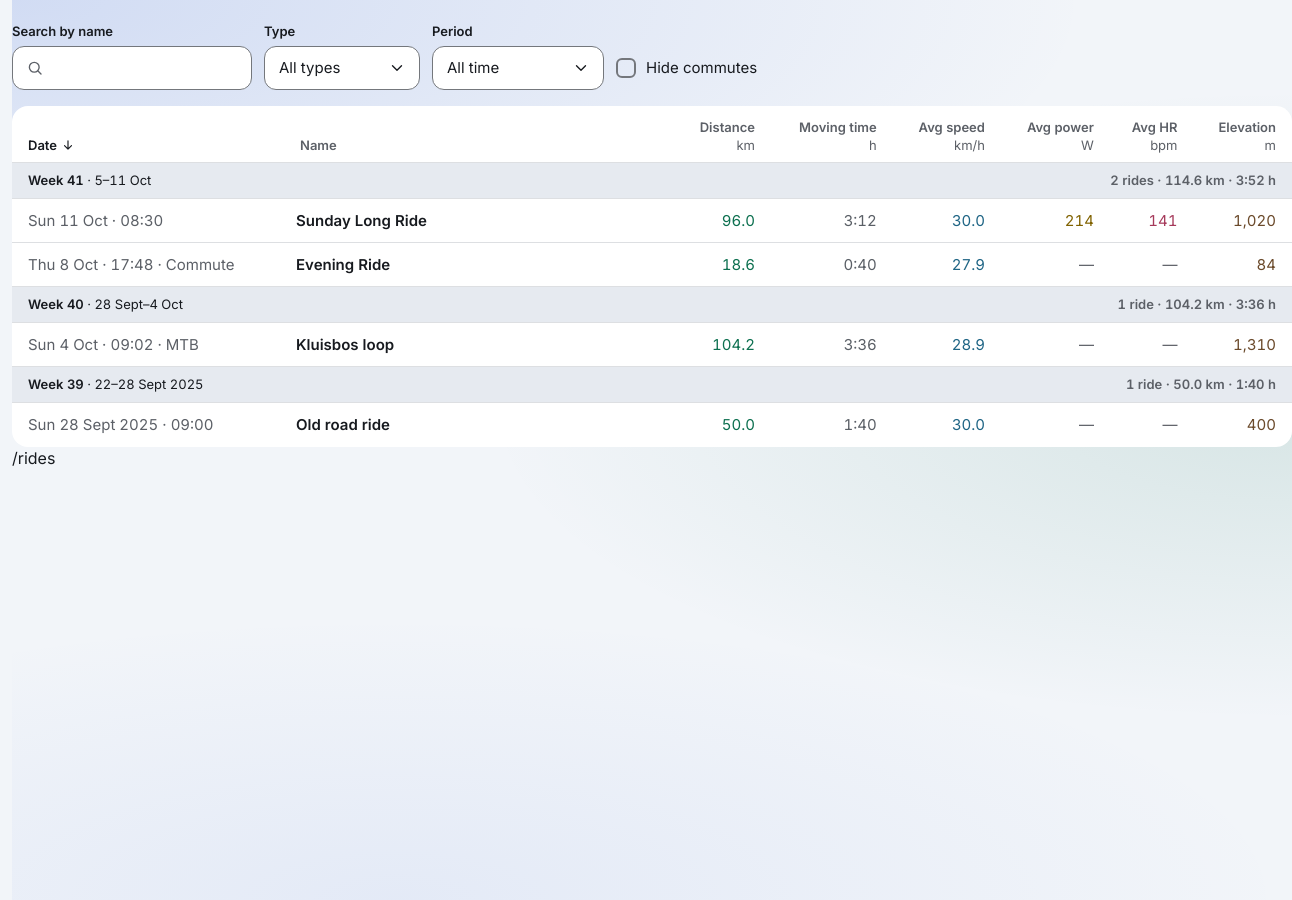
Scenario: RidesPage on desktop › sorts by any column both ways in a flat list with a count line
Expected: the table is shown, x1=12 y1=106 x2=1291 y2=446
Click the button "Distance km" at point(719, 136), box x1=676 y1=114 x2=763 y2=158
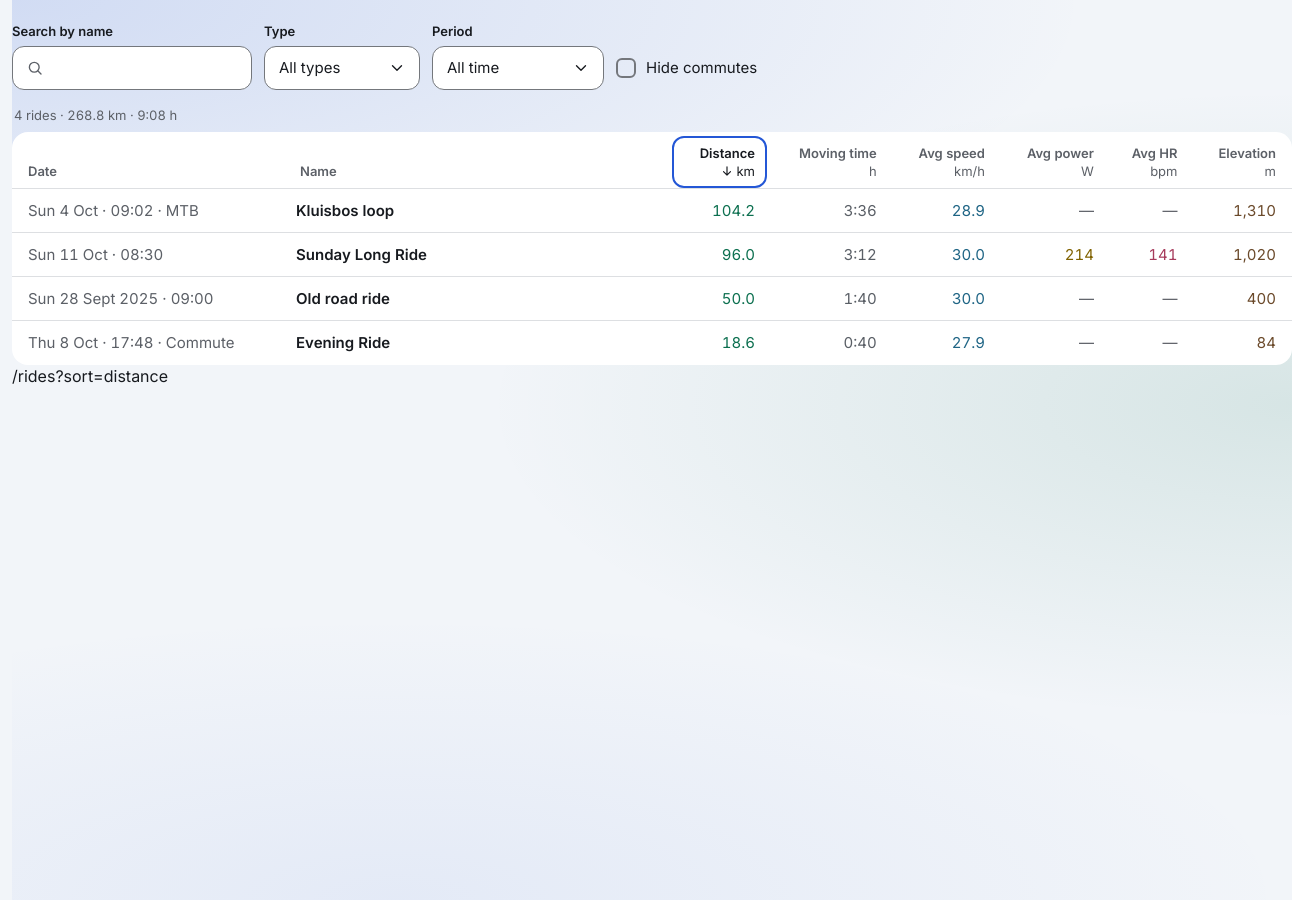
Expected: the text "Week 41" is gone
Expected: the text "4 rides · 268.8 km · 9:08 h" is shown, x1=14 y1=107 x2=177 y2=123
Expected: the text with test id "where" reads "/rides?sort=distance", x1=12 y1=366 x2=168 y2=386
Click the button "Distance km" at point(719, 162), box x1=676 y1=140 x2=763 y2=184
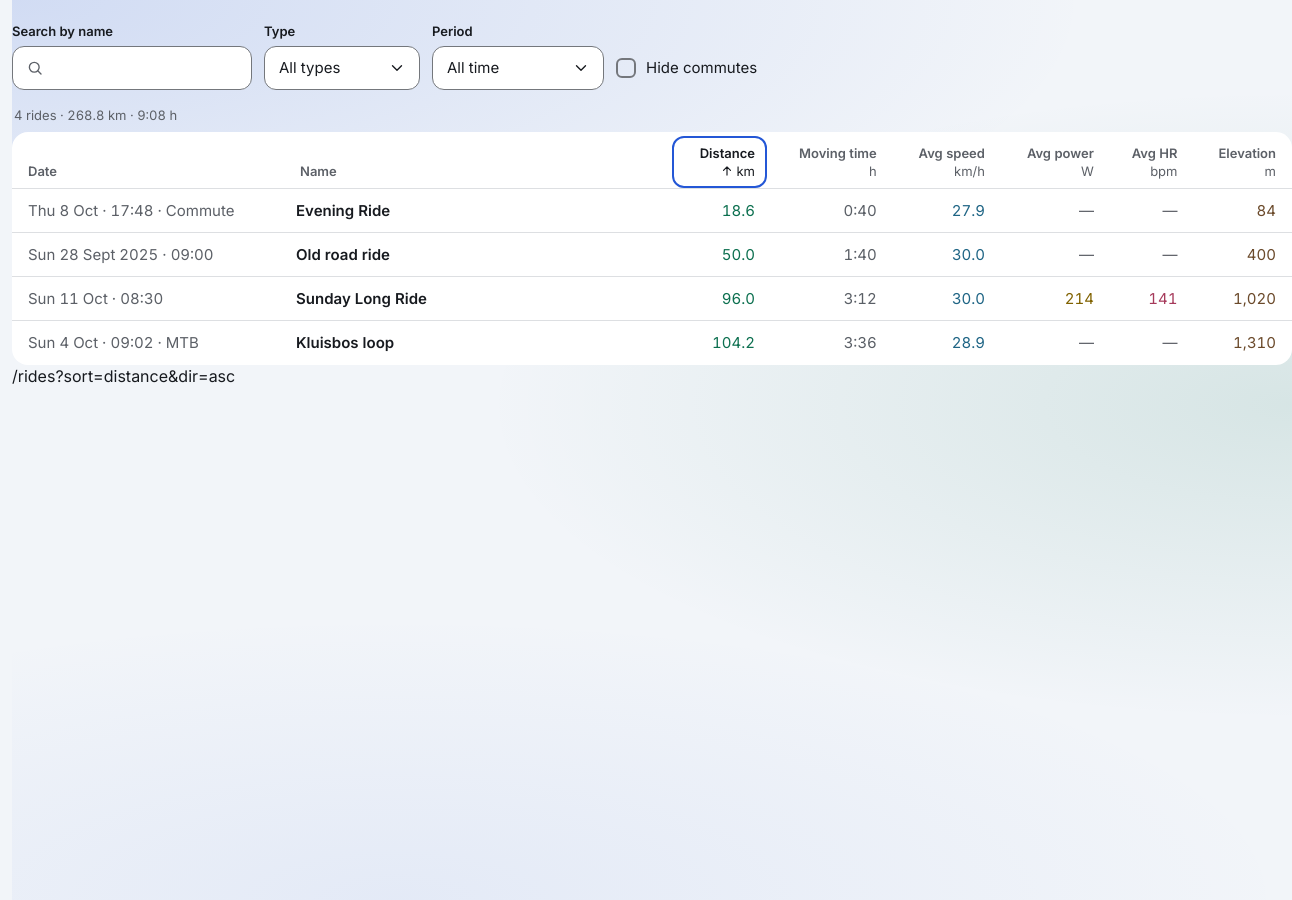
Expected: the text with test id "where" reads "/rides?sort=distance&dir=asc", x1=12 y1=366 x2=235 y2=386
Click the button "Name" at point(318, 171), box x1=292 y1=140 x2=668 y2=184
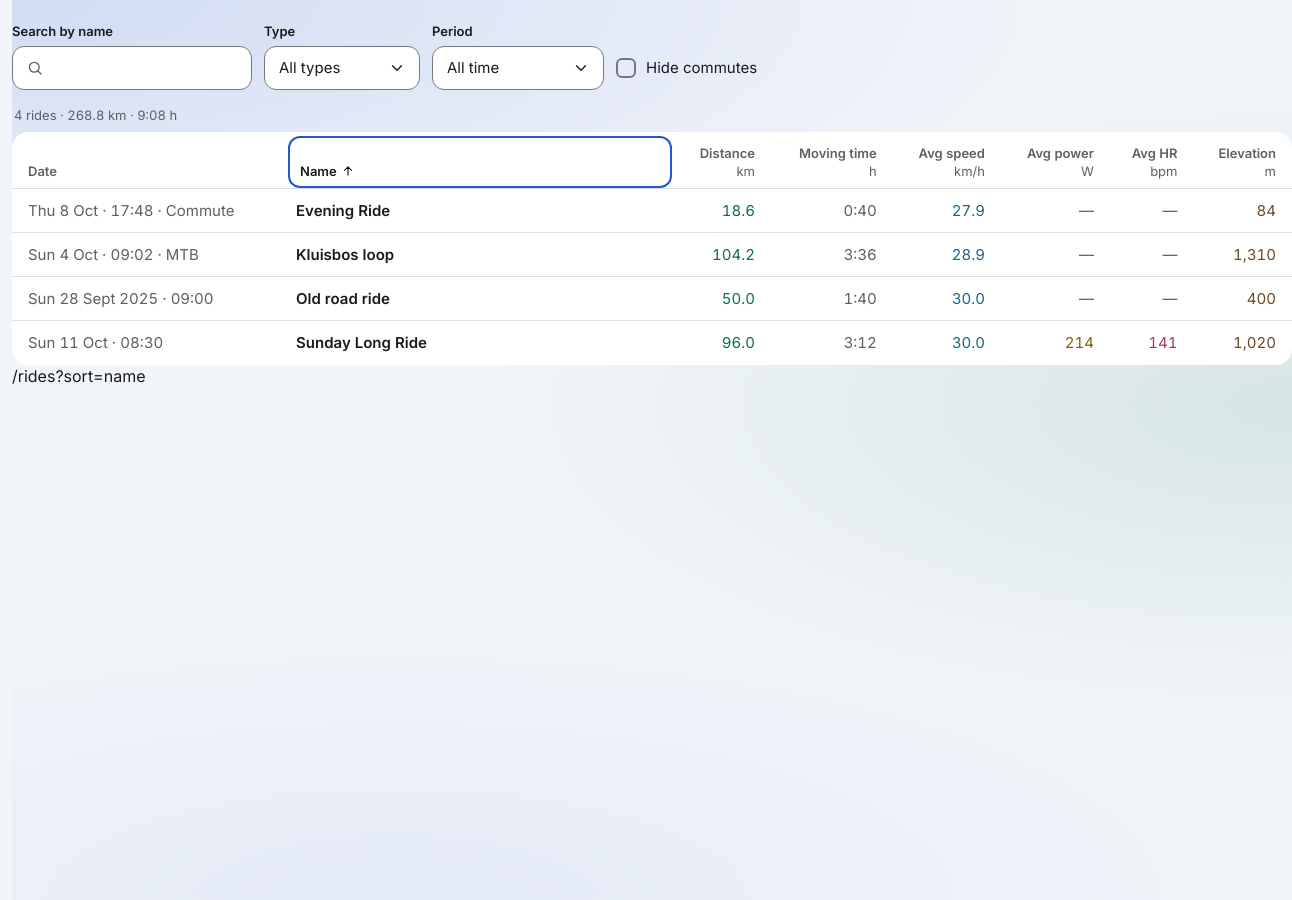
Click the button "Avg power W" at point(1051, 162), box x1=1001 y1=140 x2=1102 y2=184
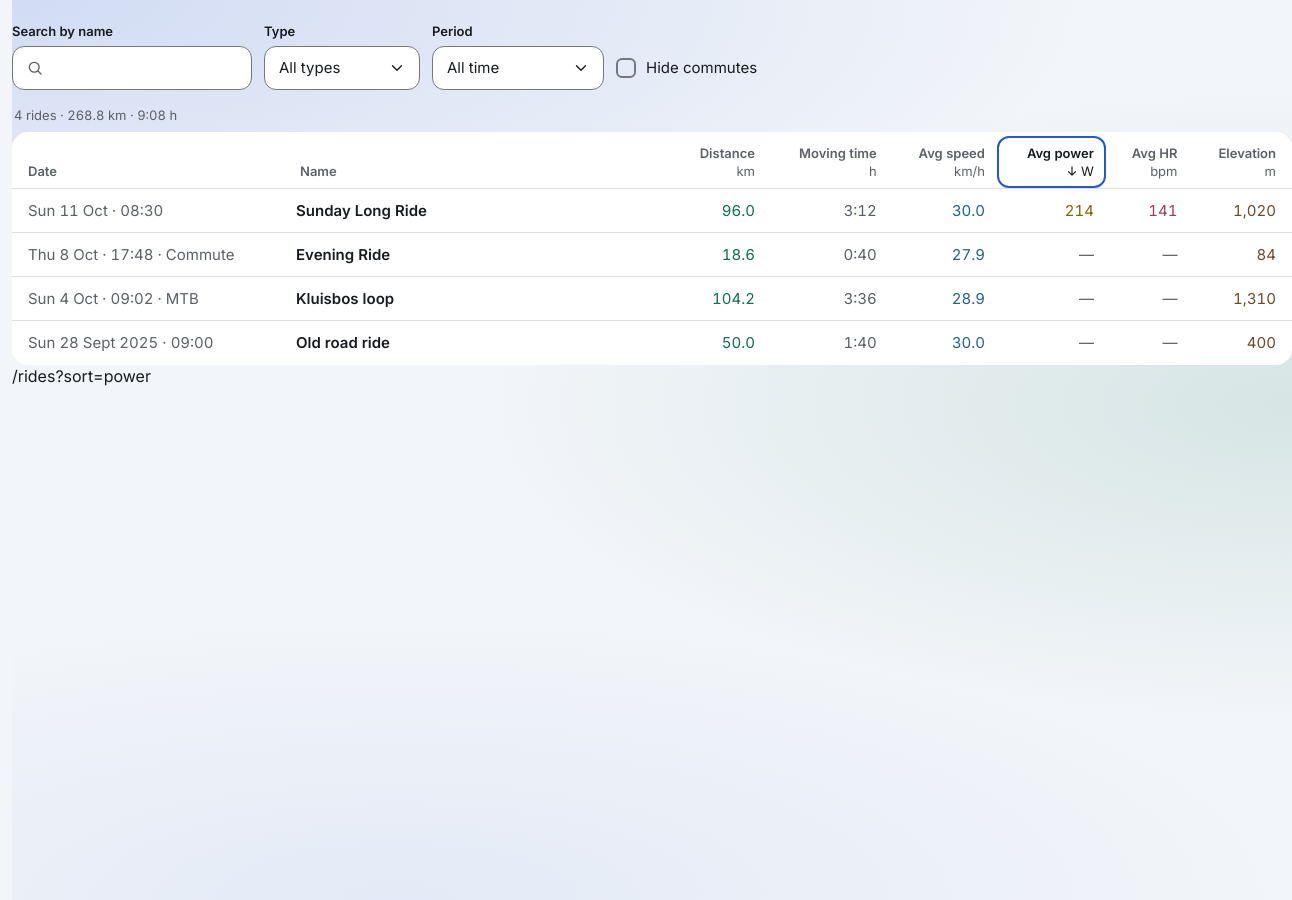
Expected: the link "Sunday Long Ride" is shown, x1=296 y1=201 x2=427 y2=220
Click the button "Date" at point(43, 171), box x1=20 y1=140 x2=284 y2=184
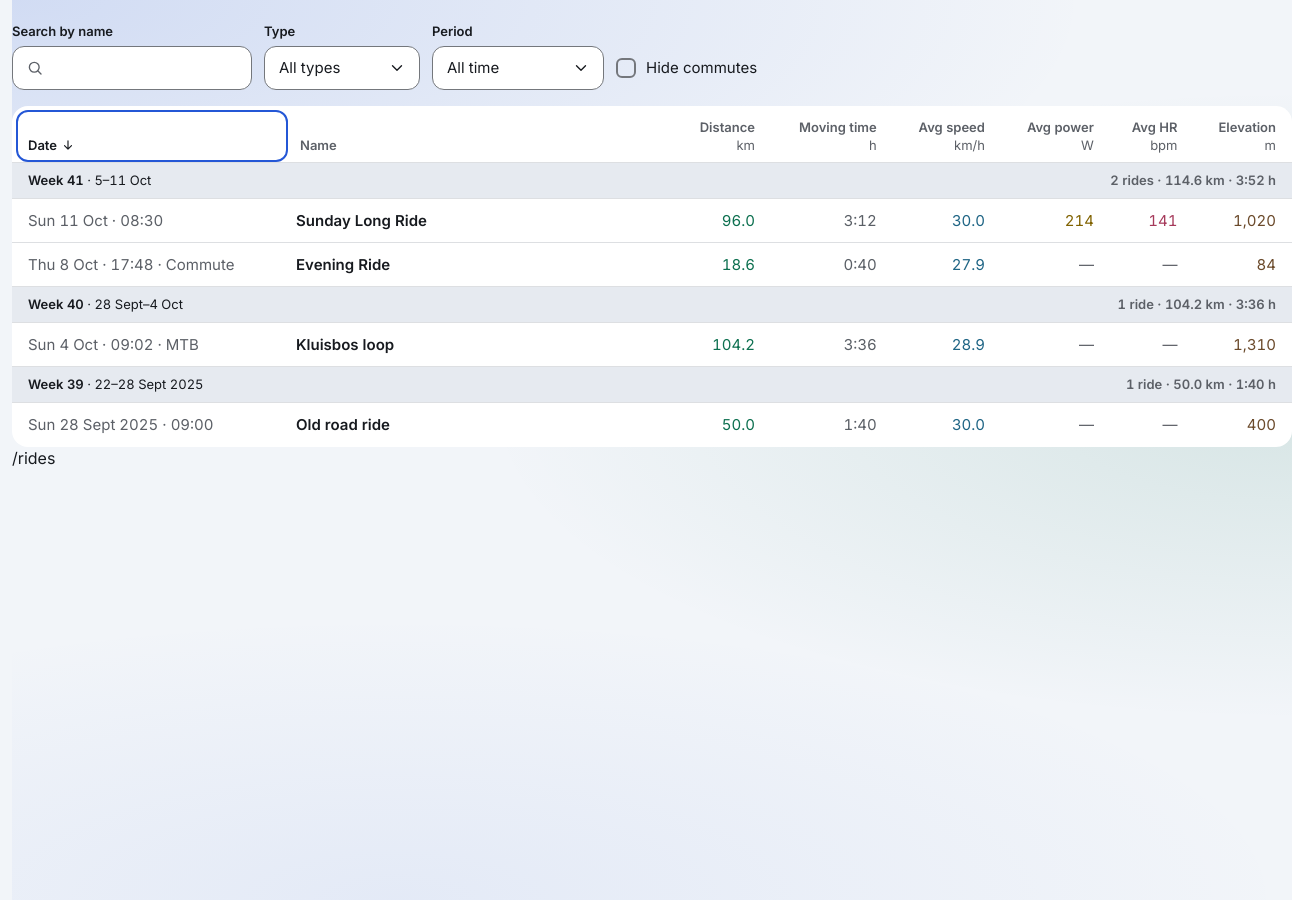
Expected: the text with test id "where" reads "/rides", x1=12 y1=448 x2=55 y2=468
